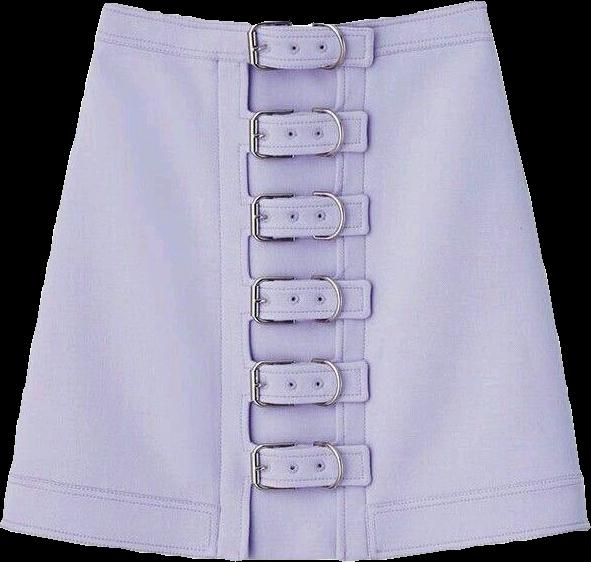Hemline: (0, 63, 256, 561), (333, 66, 590, 561), (5, 520, 590, 561)
Waistline: (93, 32, 496, 69), (108, 0, 486, 30)
